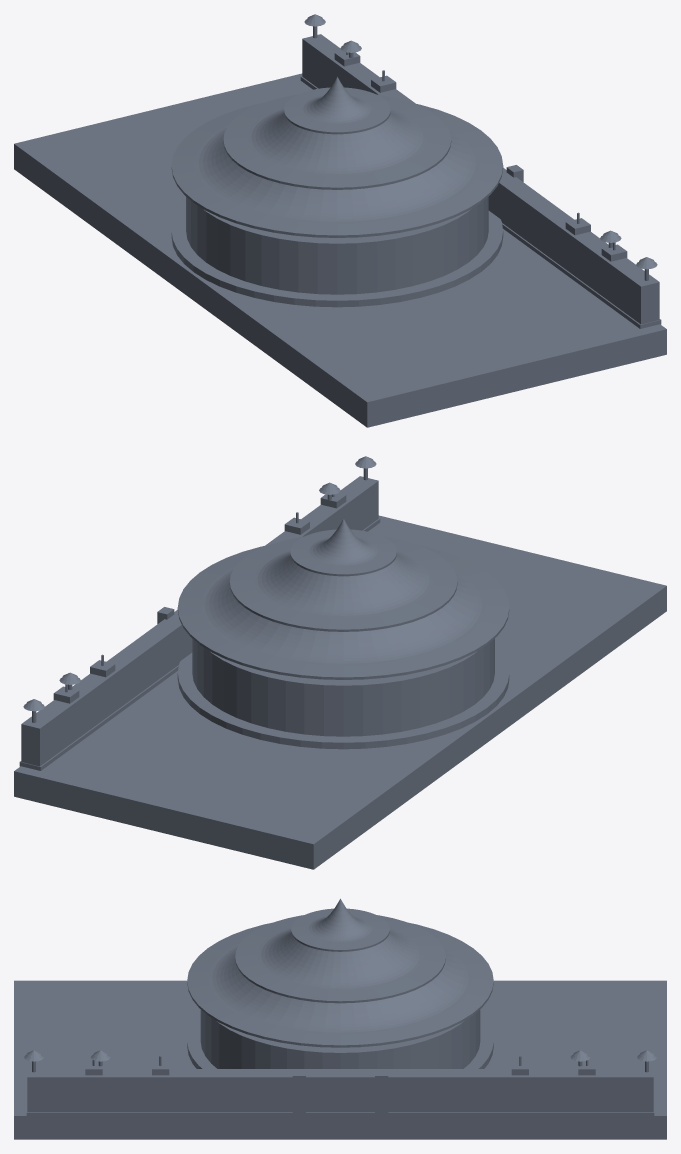
Rendered from struct.glb.
3 renders of one model, top to bottom at view 1: azimuth 30°, elevation 25°; view 2: azimuth 150°, elevation 25°; view 3: azimuth 270°, elevation 25°, orthographic. The views are drawn at different scales.
Parts seen in each view (by area): view 1: geometry_0; view 2: geometry_0; view 3: geometry_0.
Part boxes in pixels (box(x1,y1,x2,y2)): geometry_0: box(14, 14, 666, 427); geometry_0: box(14, 456, 666, 869); geometry_0: box(14, 898, 666, 1139).
Bounding box in the file's own units: 49.2 × 28.5 × 98.
